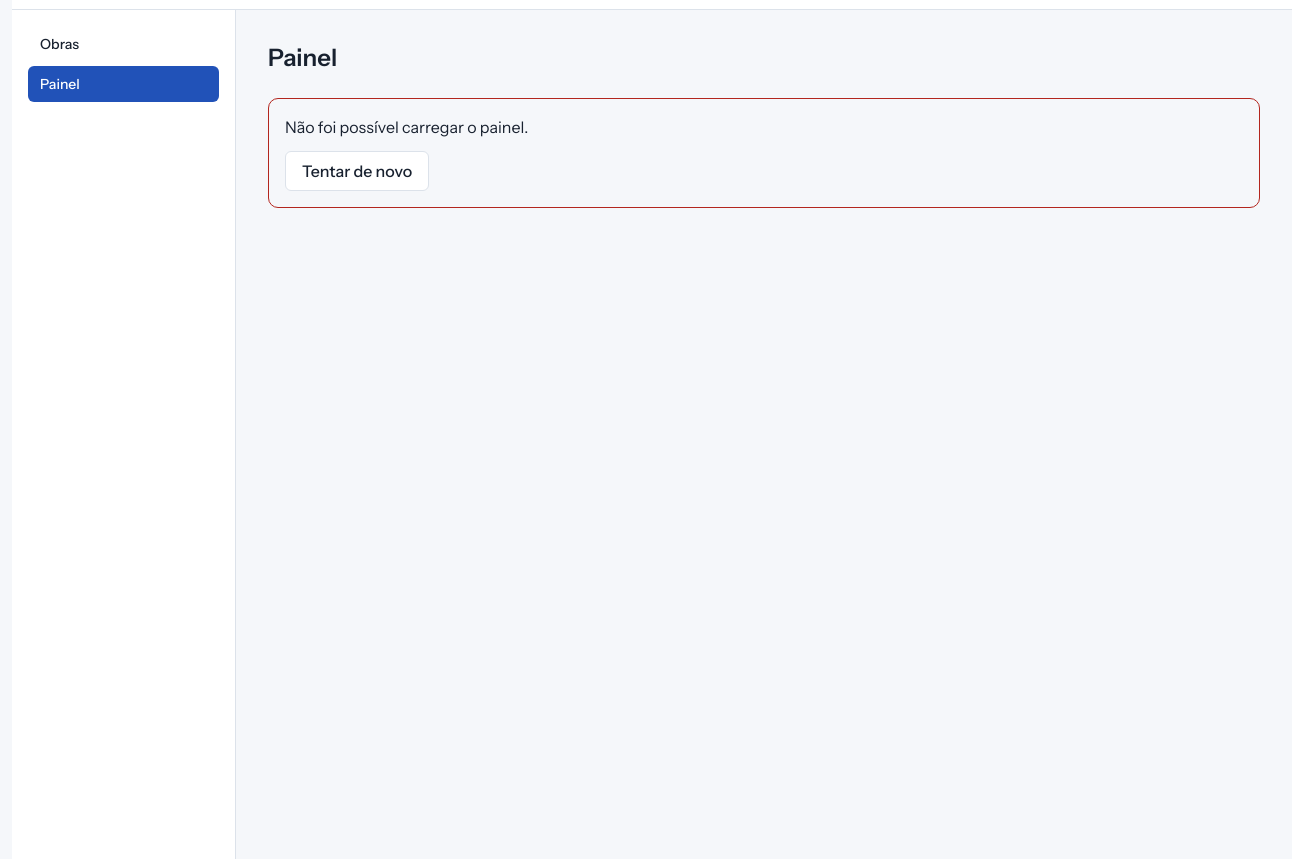
it: AppRoutes › manager › can open Obras from the menu
Click the link "Obras" at coordinates (60, 44), box x1=40 y1=35 x2=79 y2=53
(page scrolled)
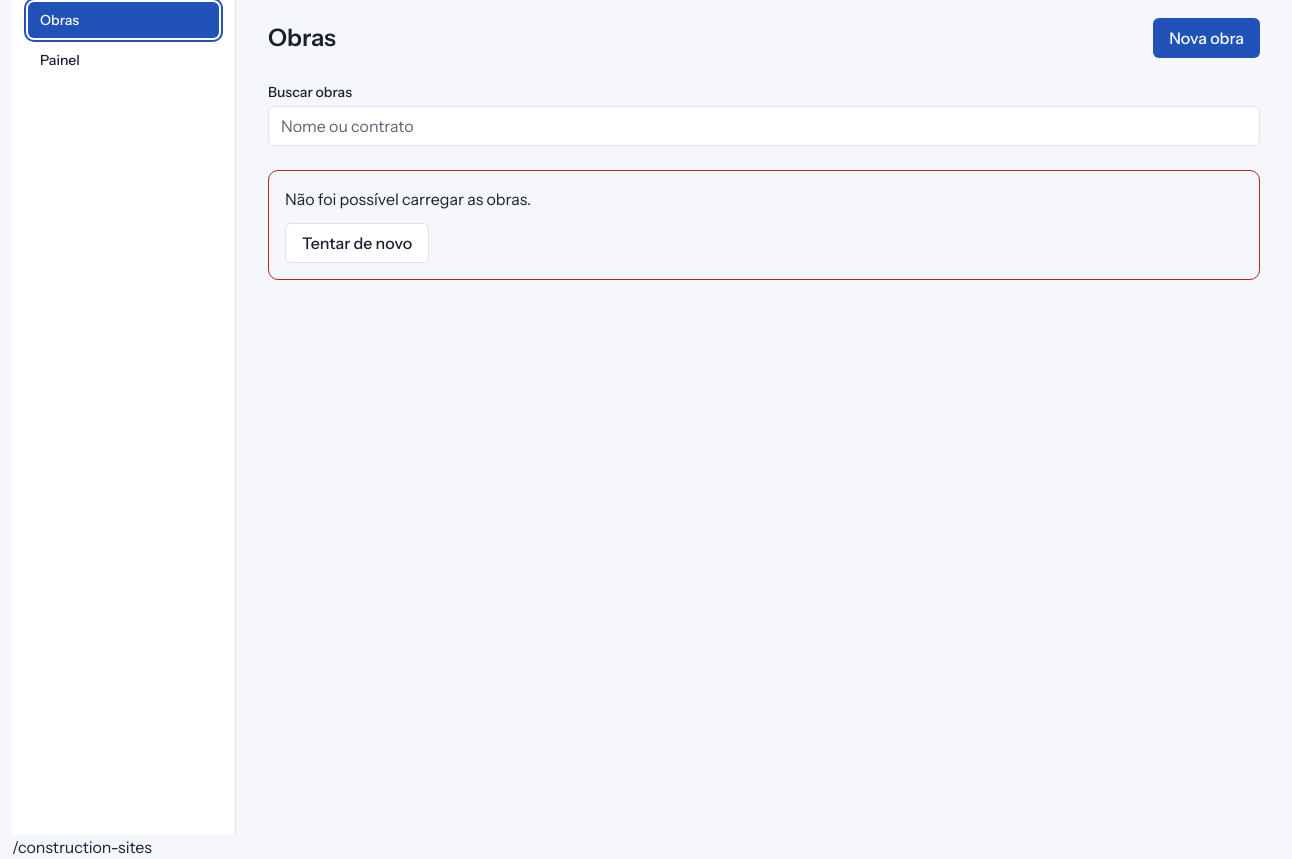
Check: the text "/construction-sites" is shown, box x1=12 y1=837 x2=152 y2=857
